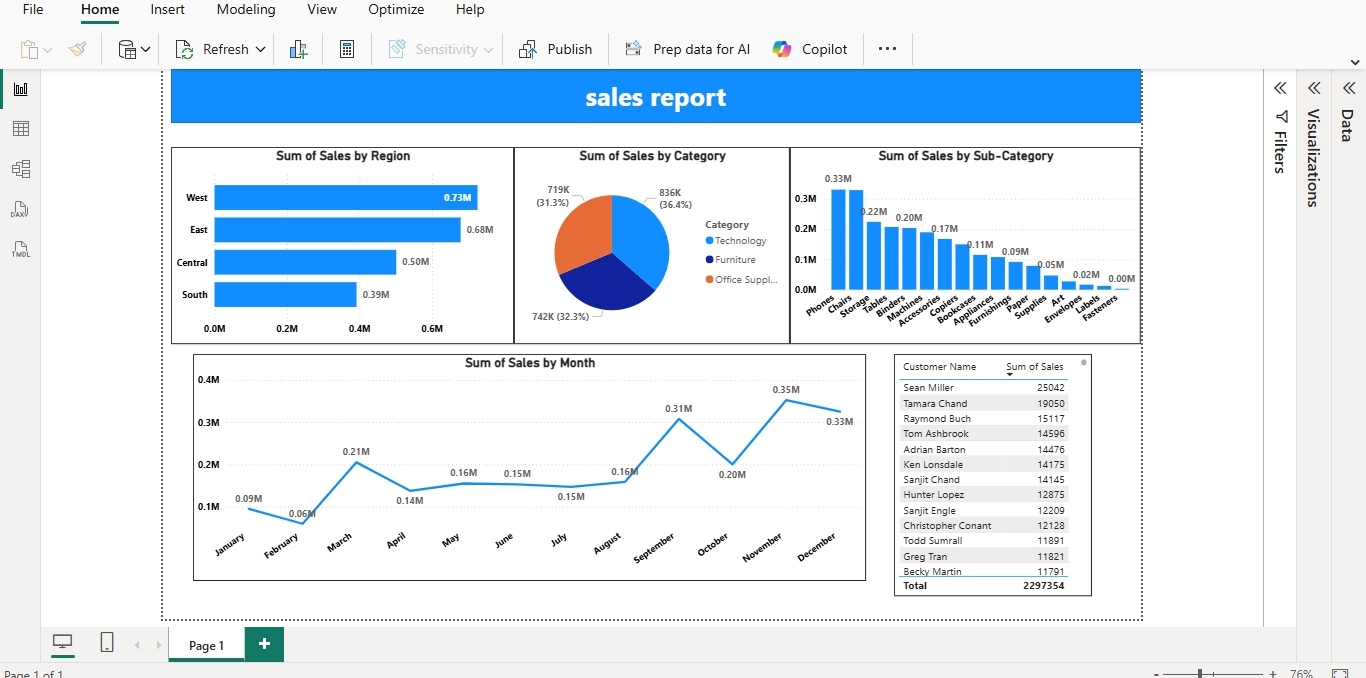

Layout of this report page (visuals, bound fields, positions):
{"tool":"powerbi","page":{"name":"Page 1","canvas":[1280,720],"ordinal":0},"visuals":[{"type":"shape","box":[10.1,0,1270.1,70.6],"z":0},{"type":"clusteredBarChart","fields":{"Category":["Sales Data.Region"],"Y":["Sales Data.Sales"]},"box":[10.1,102.2,449.3,257.8],"z":1000},{"type":"pieChart","fields":{"Category":["Sales Data.Category"],"Y":["Sales Data.Sales"]},"box":[459.4,102.2,361.4,257.8],"z":2000},{"type":"clusteredColumnChart","fields":{"Category":["Sales Data.Sub-Category"],"Y":["Sales Data.Sales"]},"box":[820.8,102.2,459.2,257.8],"z":3000},{"type":"lineChart","fields":{"Category":["Sales Data.Order Date.Variation.Date Hierarchy.Month"],"Y":["Sales Data.Sales"]},"box":[38.9,373,881.3,296.6],"z":4000},{"type":"tableEx","fields":{"Values":["Sales Data.Customer Name","Sales Data.Sales"]},"box":[957.5,372.9,258.7,317.5],"z":5000}]}

Visuals, with their boxes on the page's 1280x720 design canvas (x1, y1, x2, y2). These are canvas units, not pixel positions in the 1366x678 screenshot, which may show the page scaled, cropped or inside an application window:
shape: region(10, 0, 1280, 71)
clusteredBarChart - Sales Data.Region x Sales Data.Sales: region(10, 102, 459, 360)
pieChart - Sales Data.Category x Sales Data.Sales: region(459, 102, 821, 360)
clusteredColumnChart - Sales Data.Sub-Category x Sales Data.Sales: region(821, 102, 1280, 360)
lineChart - Sales Data.Order Date.Variation.Date Hierarchy.Month x Sales Data.Sales: region(39, 373, 920, 670)
tableEx - Sales Data.Customer Name x Sales Data.Sales: region(958, 373, 1216, 690)
